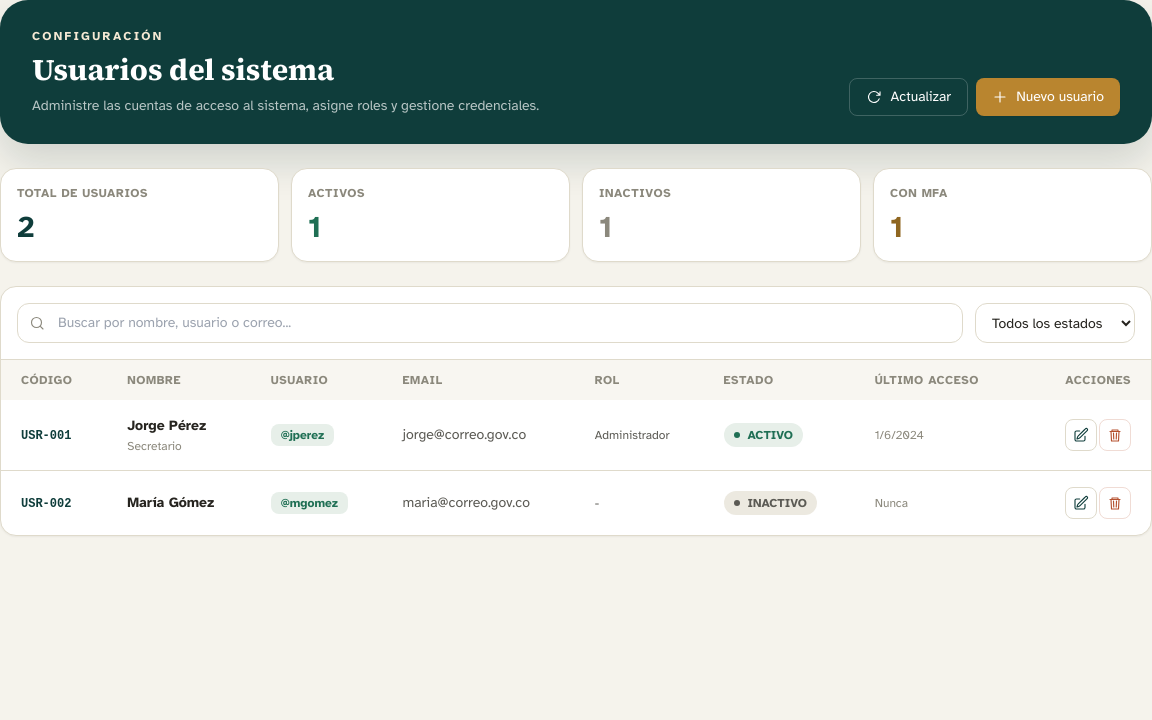
UsuariosPage › muestra un error cuando la eliminación falla
Expected: the text "Jorge Pérez" is shown, x1=127 y1=417 x2=206 y2=434
Click the button named "Eliminar" in the row of "USR-001" at (1115, 435), box x1=1099 y1=419 x2=1131 y2=451
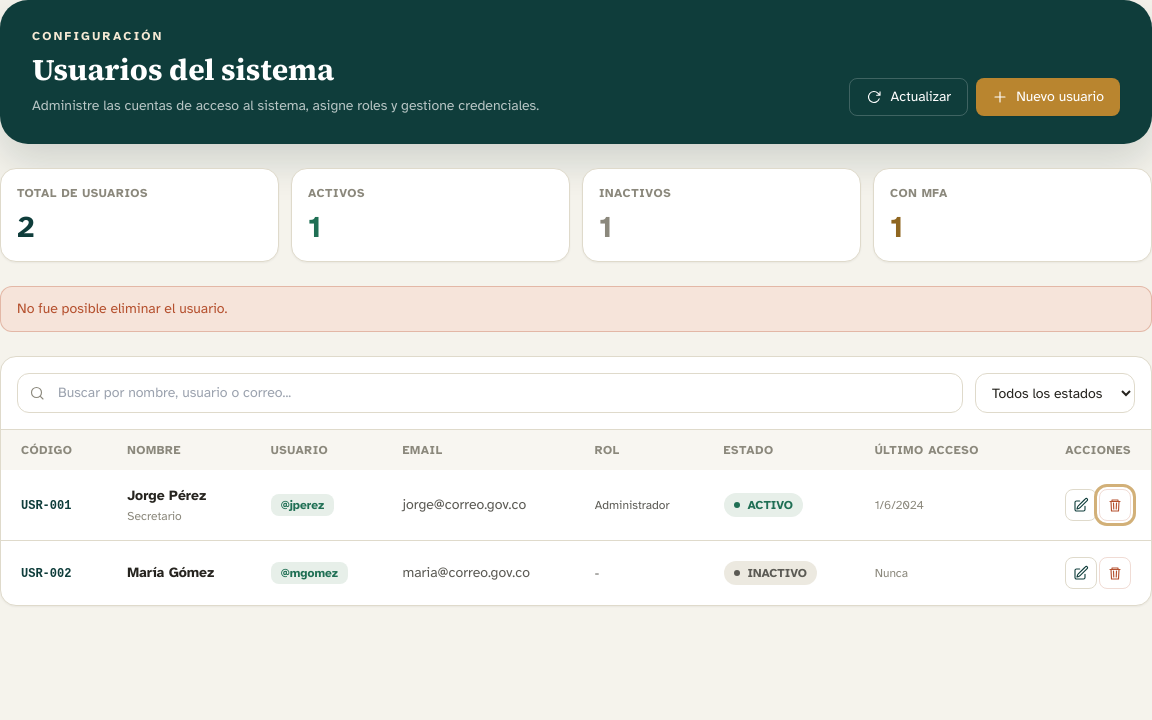
Expected: the text "No fue posible eliminar el usuario." is shown, x1=0 y1=286 x2=1151 y2=332
